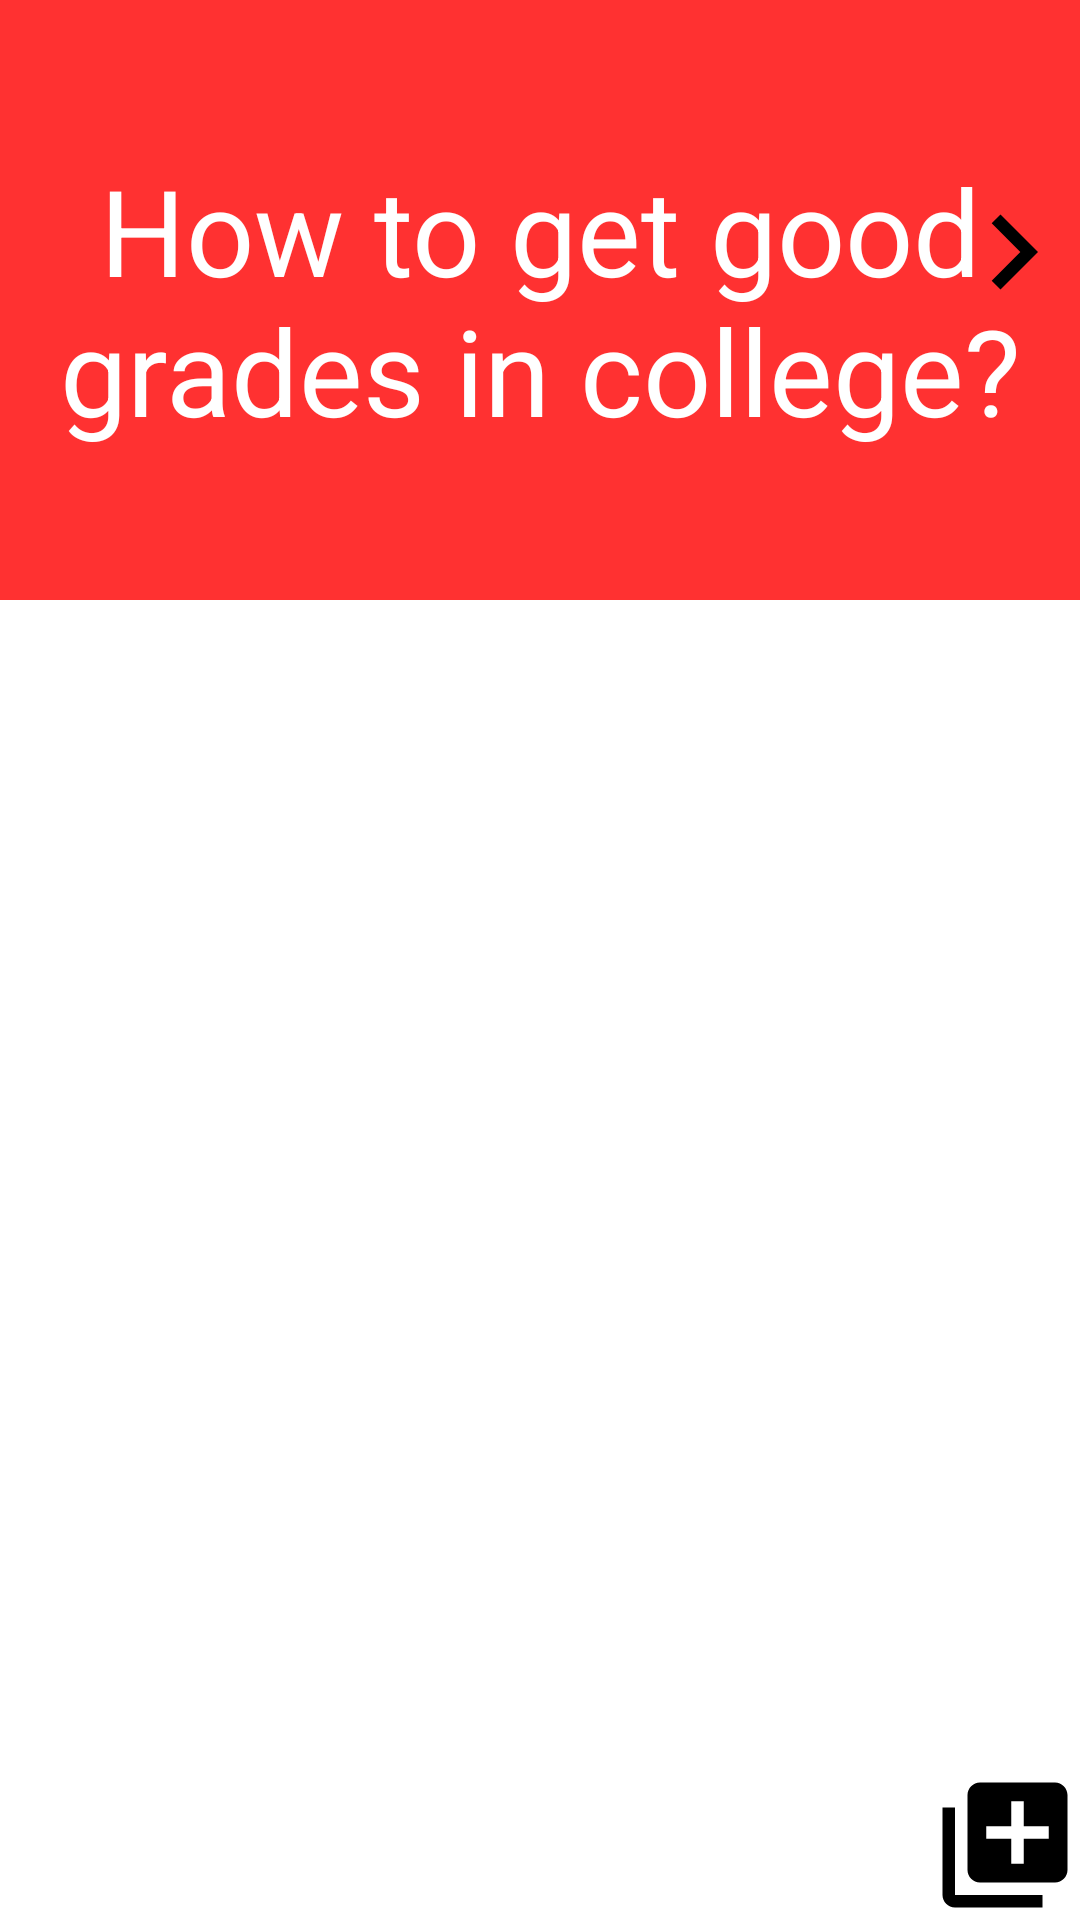

Named icons in this screenshot (1080px×1920px) and their bounding boxes, (x1, y1, x2, y2):
add: (942, 1782, 1068, 1908)
